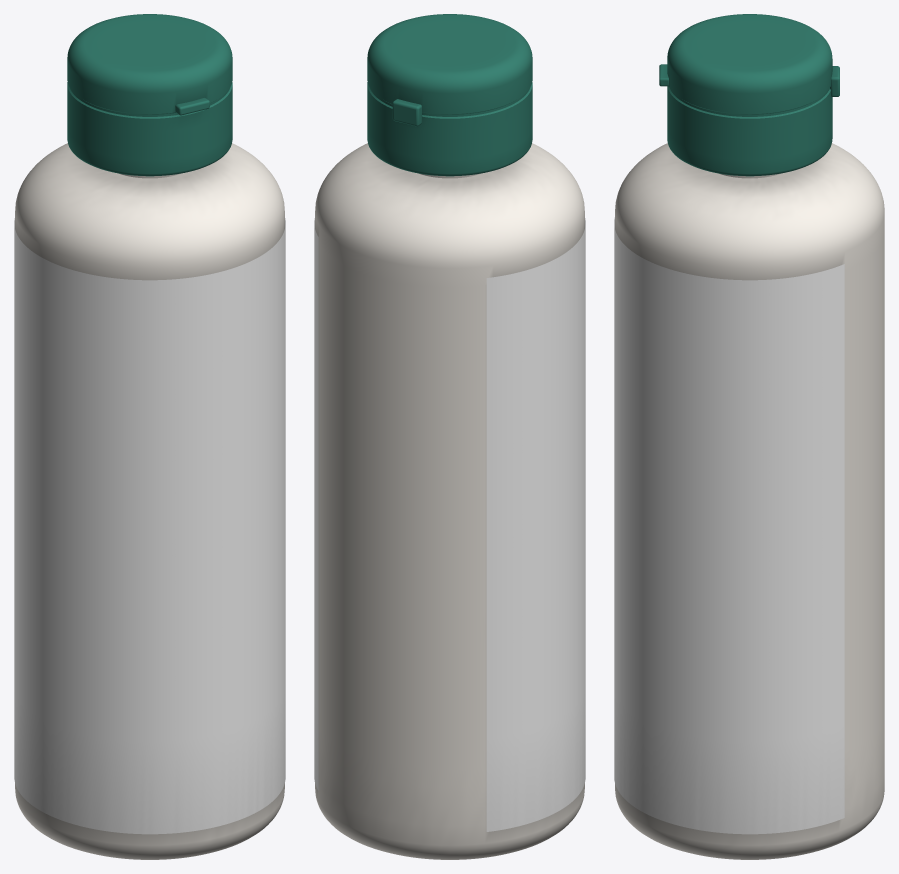
File: sh-nature.glb
The picture shows the model from 3 angles, left to right: view 1: azimuth 30°, elevation 25°; view 2: azimuth 150°, elevation 25°; view 3: azimuth 270°, elevation 25°; orthographic projection.
Visible parts, largest first — view 1: etiquette, corps, capsule; view 2: corps, etiquette, capsule, charniere; view 3: etiquette, corps, capsule.
Part boxes in pixels (bbox=[...]): etiquette: bbox=[14, 218, 285, 834]; corps: bbox=[15, 143, 284, 859]; capsule: bbox=[67, 14, 232, 176]; corps: bbox=[315, 143, 584, 859]; etiquette: bbox=[314, 218, 585, 831]; capsule: bbox=[367, 14, 532, 176]; charniere: bbox=[392, 99, 421, 126]; etiquette: bbox=[614, 217, 844, 834]; corps: bbox=[615, 143, 884, 859]; capsule: bbox=[667, 14, 832, 176].
Size of the model in its own units: 0.6436 by 2.01 by 0.6418.
